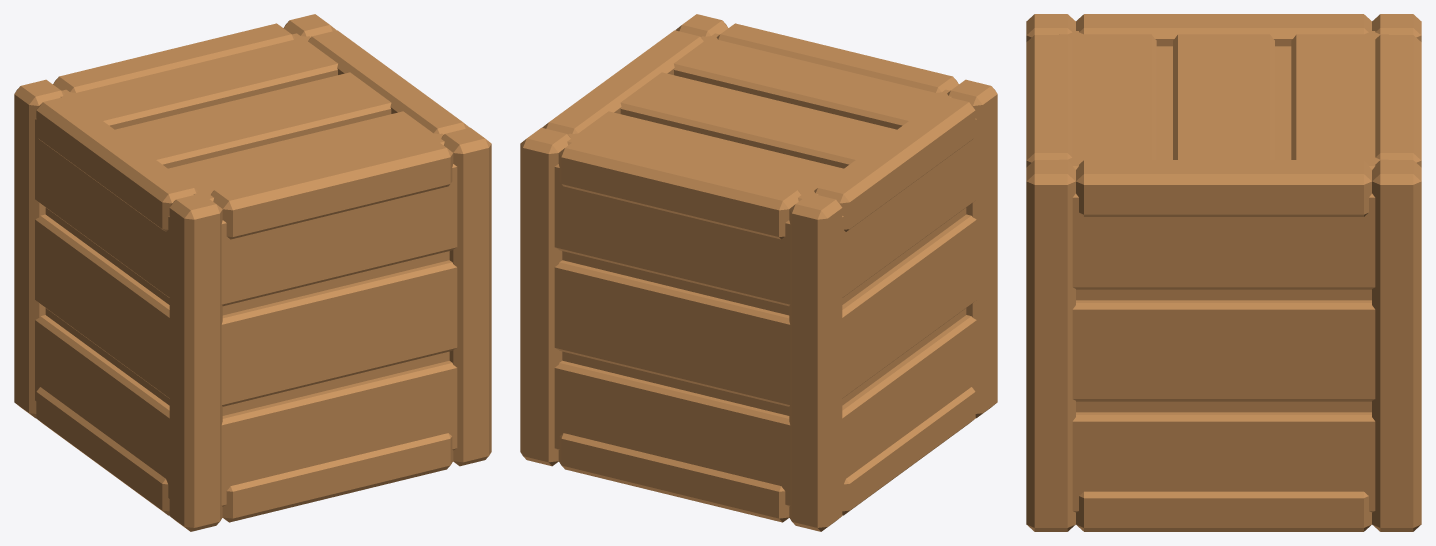
The model's file is Crate.fbx.
3 renders of one model, left to right at view 1: azimuth 30°, elevation 25°; view 2: azimuth 150°, elevation 25°; view 3: azimuth 270°, elevation 25°, orthographic. The views are drawn at different scales.
Parts seen in each view (by area): view 1: Crate, Trim; view 2: Crate, Trim; view 3: Crate, Trim.
Part boxes in pixels (left/top/right/bottom): Crate: left=35, top=33, right=457, bottom=506; Trim: left=14, top=14, right=491, bottom=531; Crate: left=554, top=33, right=976, bottom=506; Trim: left=520, top=14, right=997, bottom=531; Crate: left=1059, top=31, right=1388, bottom=512; Trim: left=1026, top=14, right=1421, bottom=531.
Bounding box in the file's own units: 2.4 × 2.4 × 2.4.
